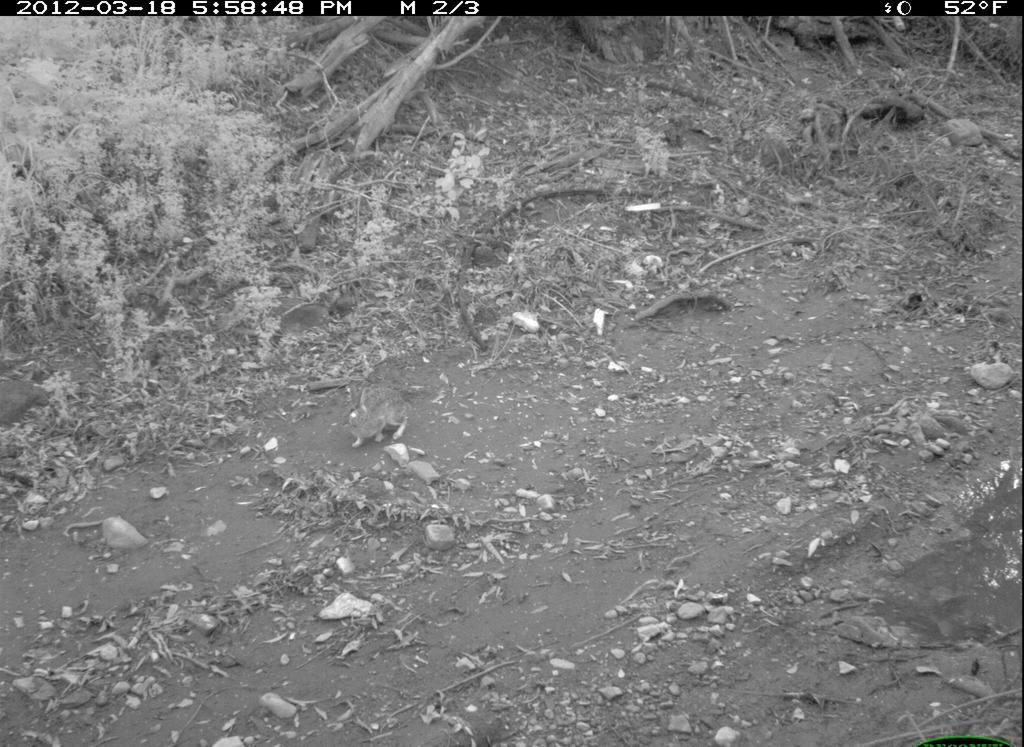rabbit: (332, 374, 423, 451)
